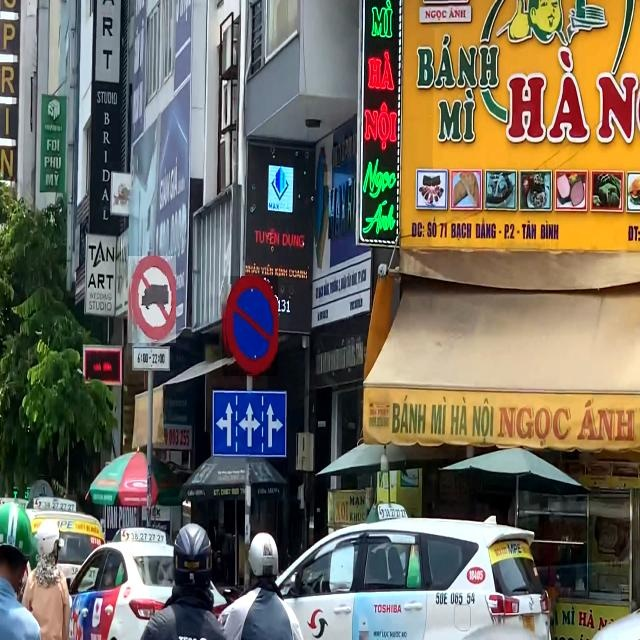bien_cam: (222, 276, 278, 376), (128, 256, 176, 343)
